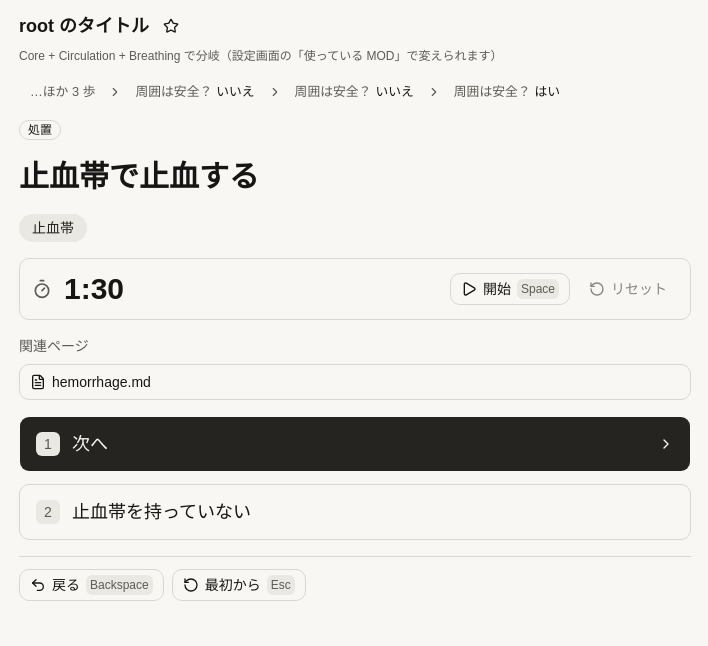
Test case: FlowRunner › 長い経路は古い歩を畳み、押すと全部出す
Expected: the number of buttons "周囲は安全？ いいえ" is 3, x1=124 y1=80 x2=266 y2=104; x1=284 y1=80 x2=425 y2=104; x1=443 y1=80 x2=571 y2=104
Click the button "…ほか 3 歩": [63, 92] box x1=19 y1=80 x2=106 y2=104
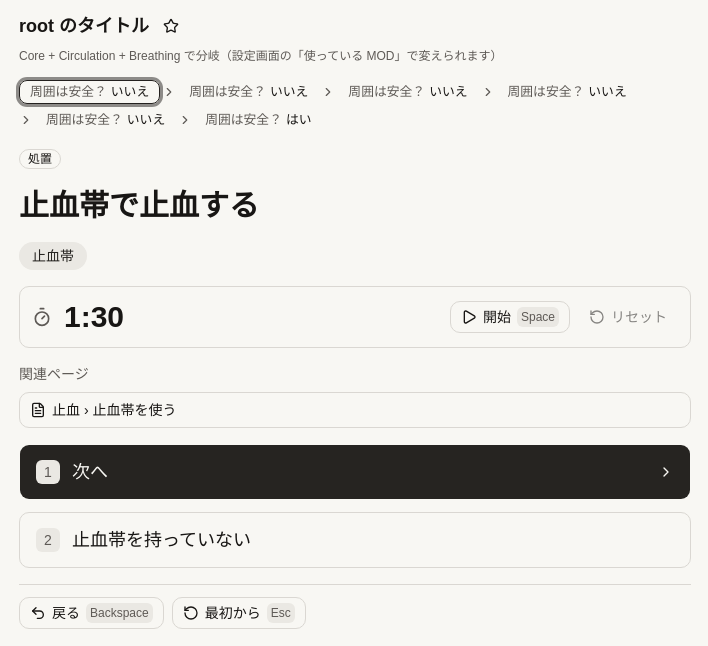
Result: the number of buttons "周囲は安全？ いいえ" is 6 at x1=19 y1=80 x2=160 y2=104; x1=178 y1=80 x2=319 y2=104; x1=337 y1=80 x2=478 y2=104; x1=496 y1=80 x2=638 y2=104; x1=35 y1=108 x2=176 y2=133; x1=194 y1=108 x2=323 y2=133
